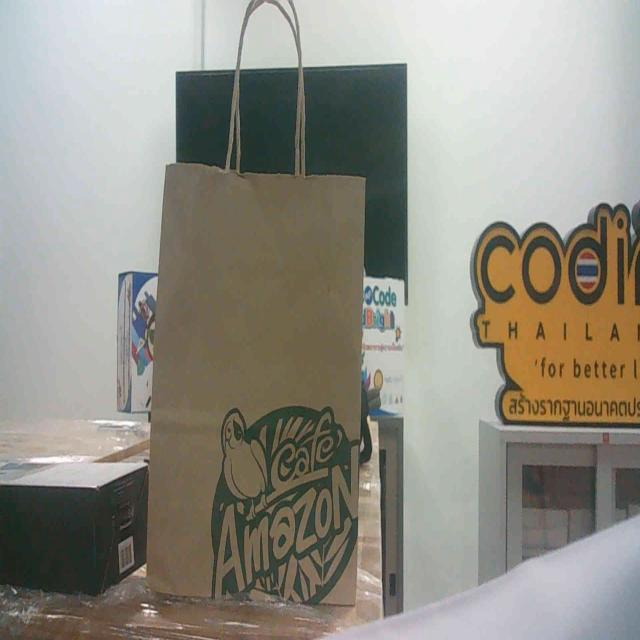bag: (143, 129, 388, 640)
